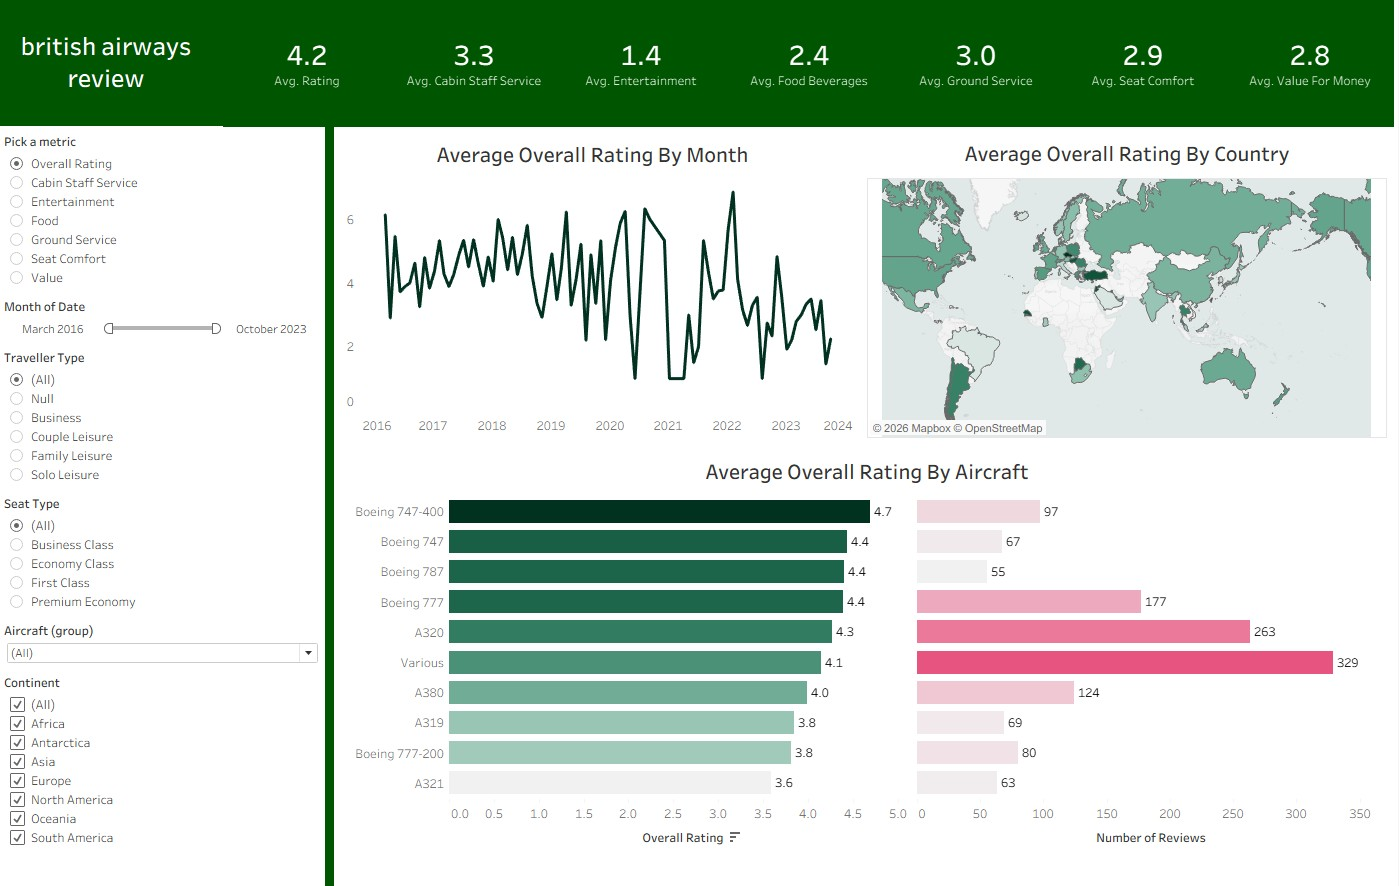

Layout of this report page (visuals, bound fields, positions):
{"tool":"tableau","page":{"name":"Dashboard 1","canvas":[1200,700],"ordinal":0},"visuals":[{"type":"text","box":[0,0,200,100]},{"type":"worksheet","title":"summary","mark":"Automatic","box":[200,0,999,100]},{"type":"blank","box":[200,100,3,600]},{"type":"parameter","param":"[Parameters].[Parameter 1]","box":[0,102,200,149]},{"type":"worksheet","title":"Month","mark":"Automatic","rows":["Calculation_467529988195790848"],"cols":["date"],"box":[220,110,444,280]},{"type":"worksheet","title":"Map","mark":"Automatic","box":[675,110,517,280]},{"type":"filter","title":"Map","param":"[federated.1pcnwoo1g4pvph10ksfk00hadk1e].[tmn:date:qk]","box":[0,251,200,69]},{"type":"filter","title":"Map","param":"[federated.1pcnwoo1g4pvph10ksfk00hadk1e].[none:seat_type:nk]","box":[0,320,200,127]},{"type":"worksheet","title":"Aircraft","mark":"Automatic","cols":["Calculation_467529988195790848","ba_reviews.csv_693B5AD7C0CC43C9AB5E245D8FB67E5F"],"box":[220,395,971,300]},{"type":"filter","title":"Map","param":"[federated.1pcnwoo1g4pvph10ksfk00hadk1e].[none:traveller_type:nk]","box":[0,447,200,146]},{"type":"filter","title":"Map","param":"[federated.1pcnwoo1g4pvph10ksfk00hadk1e].[Aircraft (group)]","box":[0,593,200,52]},{"type":"filter","title":"Map","param":"[federated.1pcnwoo1g4pvph10ksfk00hadk1e].[none:Continent:nk]","box":[0,645,200,52]}]}

Visuals, with their boxes on the page's 1200x700 design canvas (x1, y1, x2, y2). These are canvas units, not pixel positions in the 1399x886 screenshot, which may show the page scaled, cropped or inside an application window:
text: 0, 0, 200, 100
"summary" worksheet: 200, 0, 1199, 100
blank: 200, 100, 203, 700
parameter: 0, 102, 200, 251
"Month" worksheet: 220, 110, 664, 390
"Map" worksheet: 675, 110, 1192, 390
"Map" filter: 0, 251, 200, 320
"Map" filter: 0, 320, 200, 447
"Aircraft" worksheet: 220, 395, 1191, 695
"Map" filter: 0, 447, 200, 593
"Map" filter: 0, 593, 200, 645
"Map" filter: 0, 645, 200, 697
